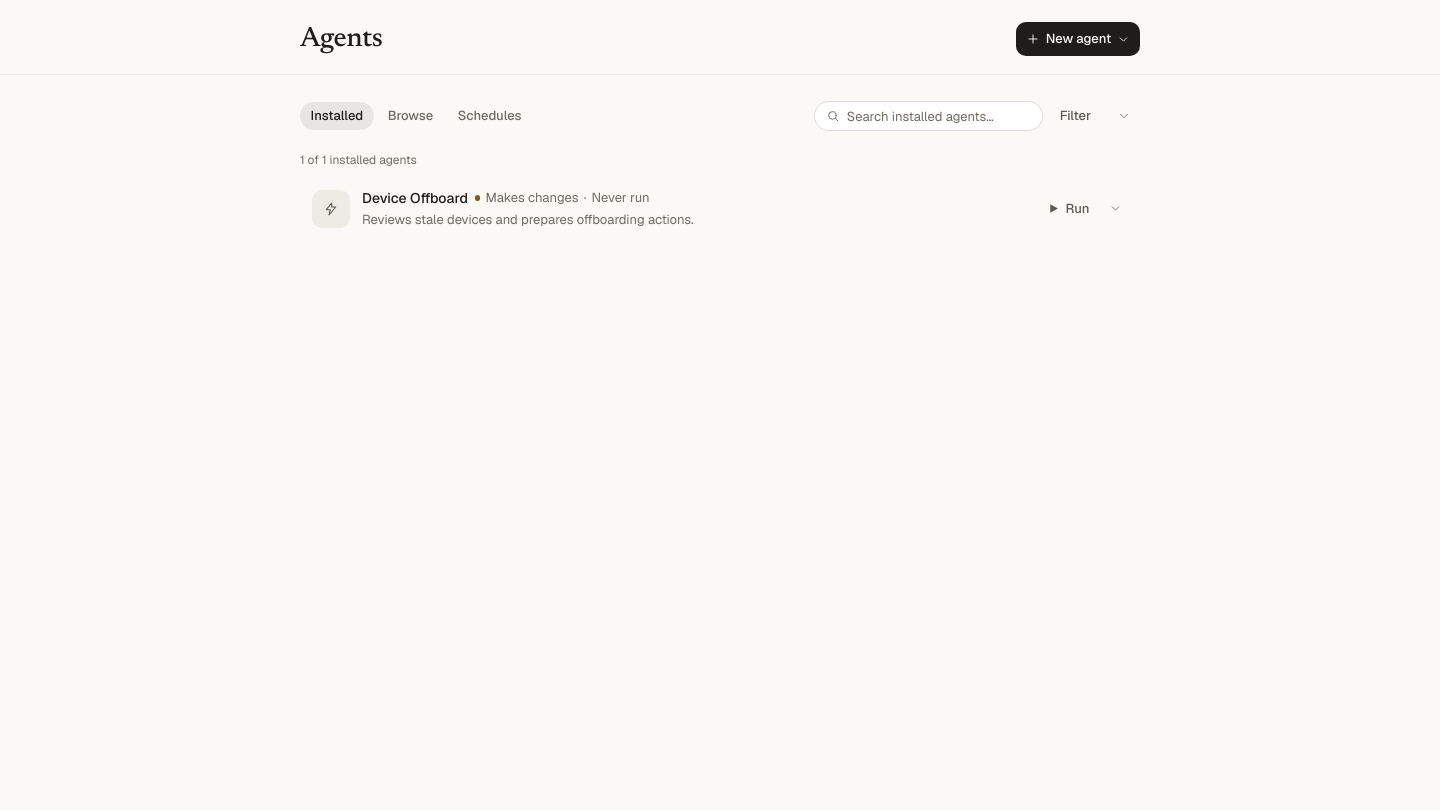
Agents › keeps the page focused on the Library and agent installation actions
Expected: the heading "Agents" is shown, [300,22,382,56]
Click the button "New agent". click: (1078, 39)
box: [1016,22,1140,56]
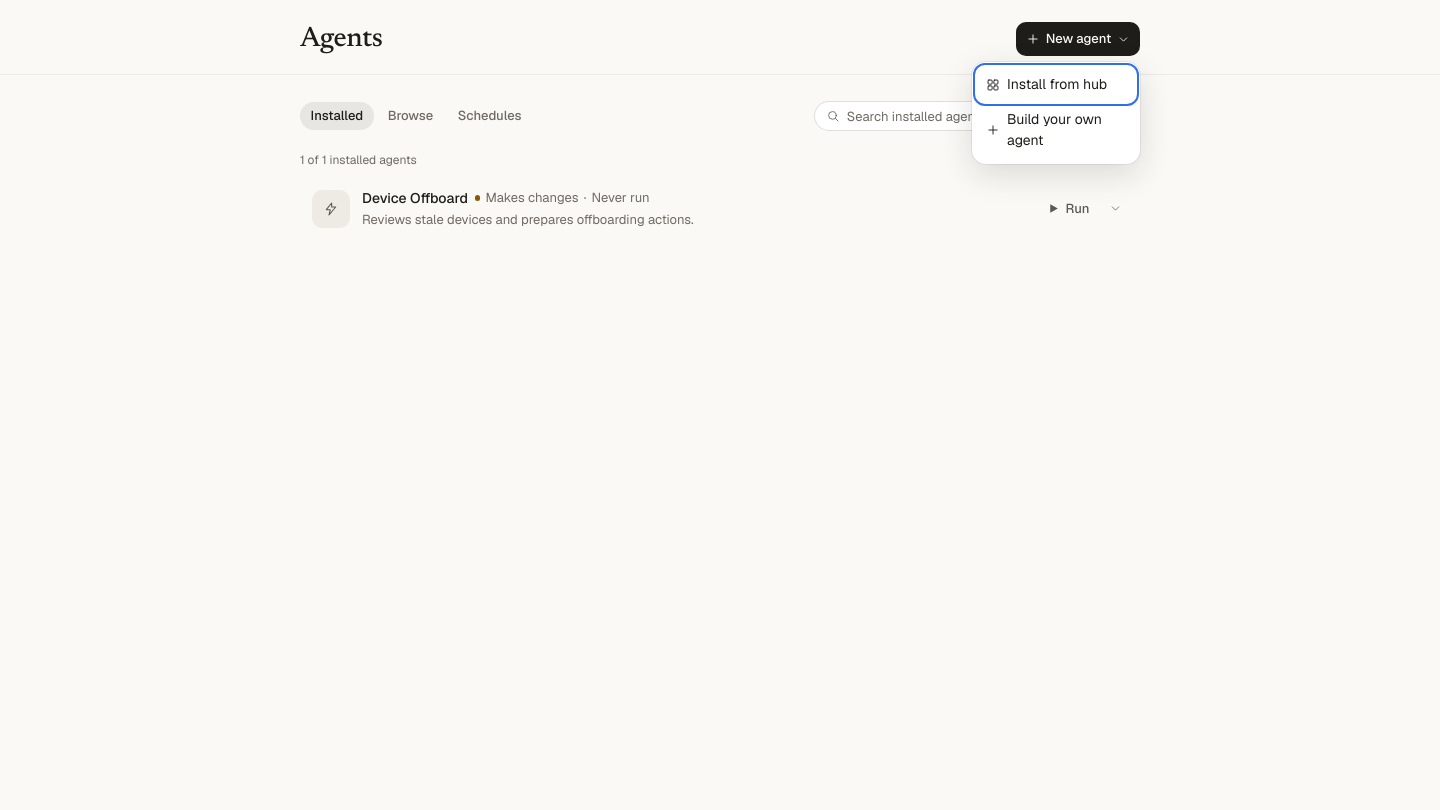
Result: the menu item "Install from hub" is shown at [977,67,1135,102]
Result: the menu item "Build your own agent" is shown at [977,102,1135,158]
